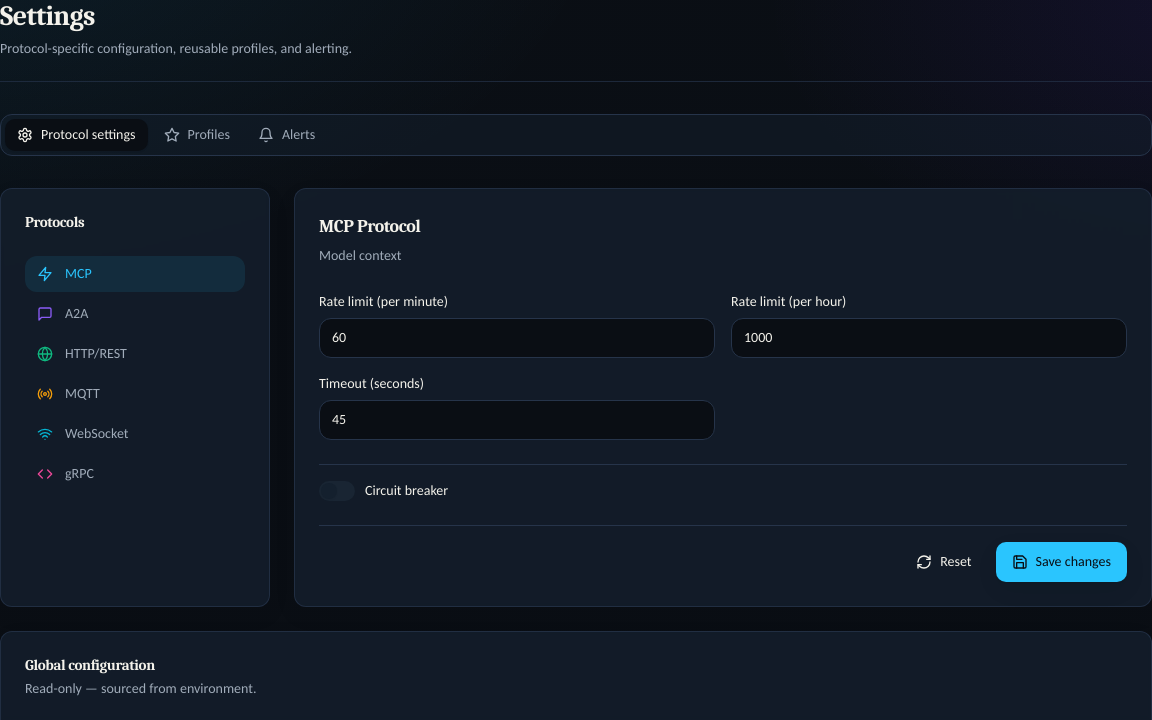
Test: Settings page › profiles tab › selecting a profile loads it into the form; new profile clears it
Step 1. Click the tab "Profiles" → click(197, 135), box [152, 119, 242, 151]
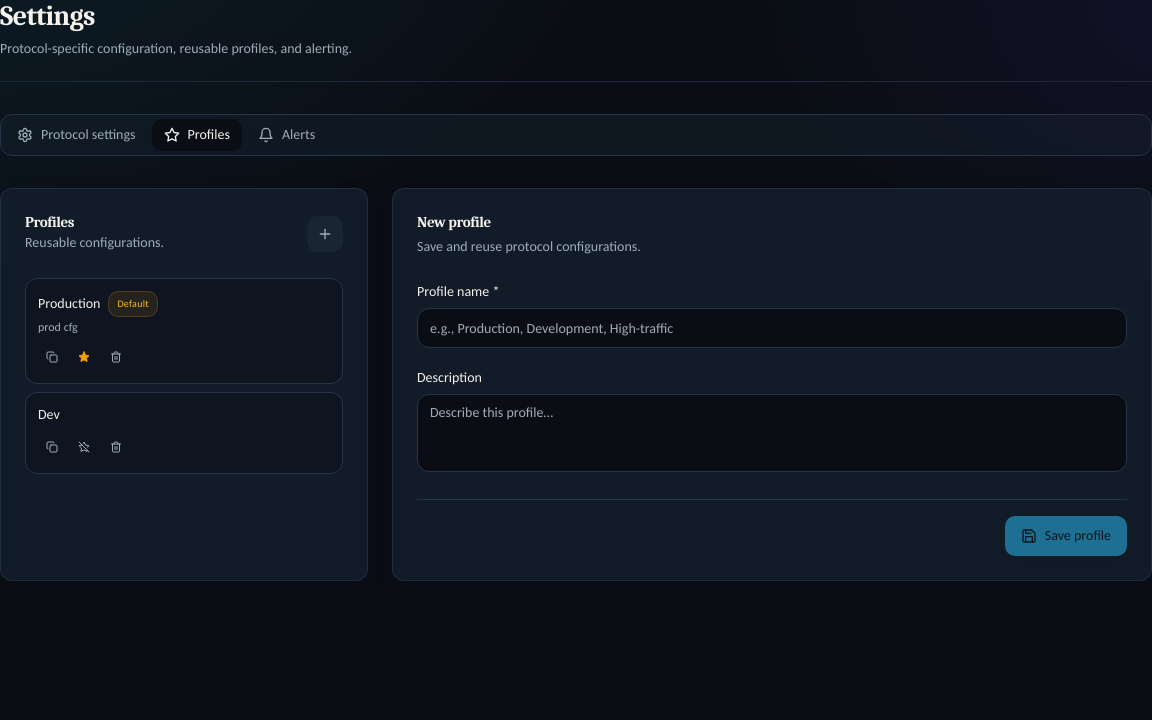
Step 2. Click the text "Dev" → click(49, 415), box [38, 405, 60, 425]
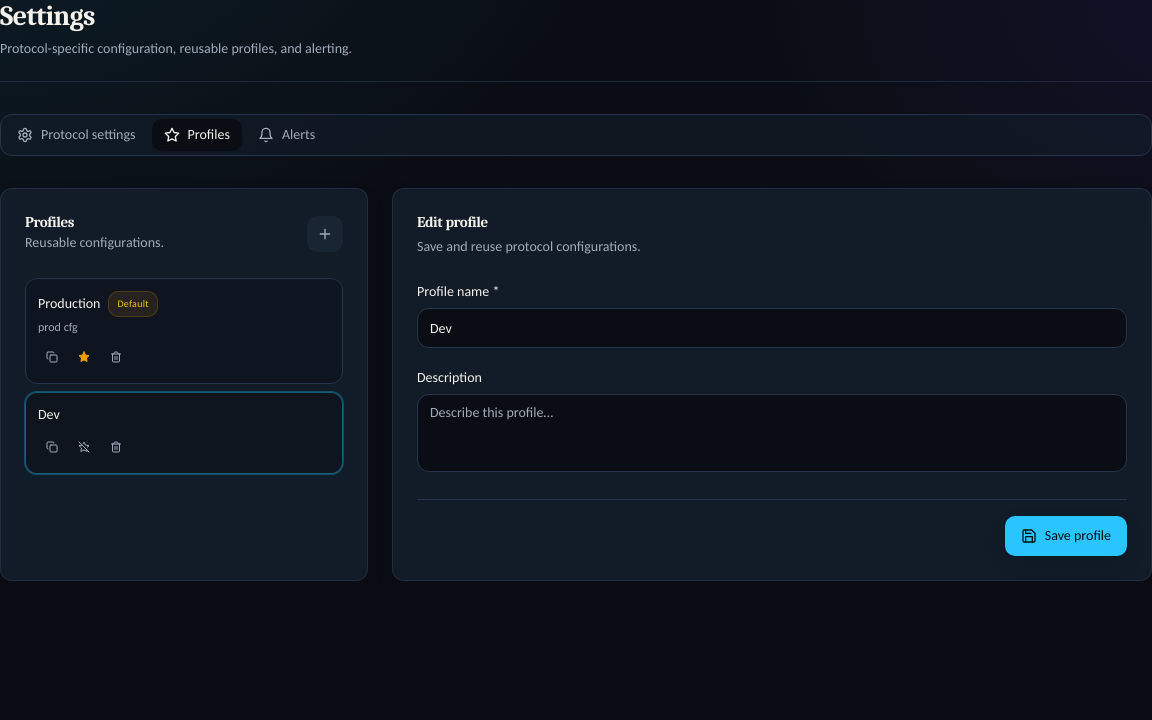
Expected: the heading "Edit profile" is shown, [417, 213, 488, 231]
Expected: the field labelled "Profile name *" holds "Dev", [417, 308, 1127, 348]
Step 3. Click the button named "New profile" → click(325, 234), box [307, 216, 343, 252]
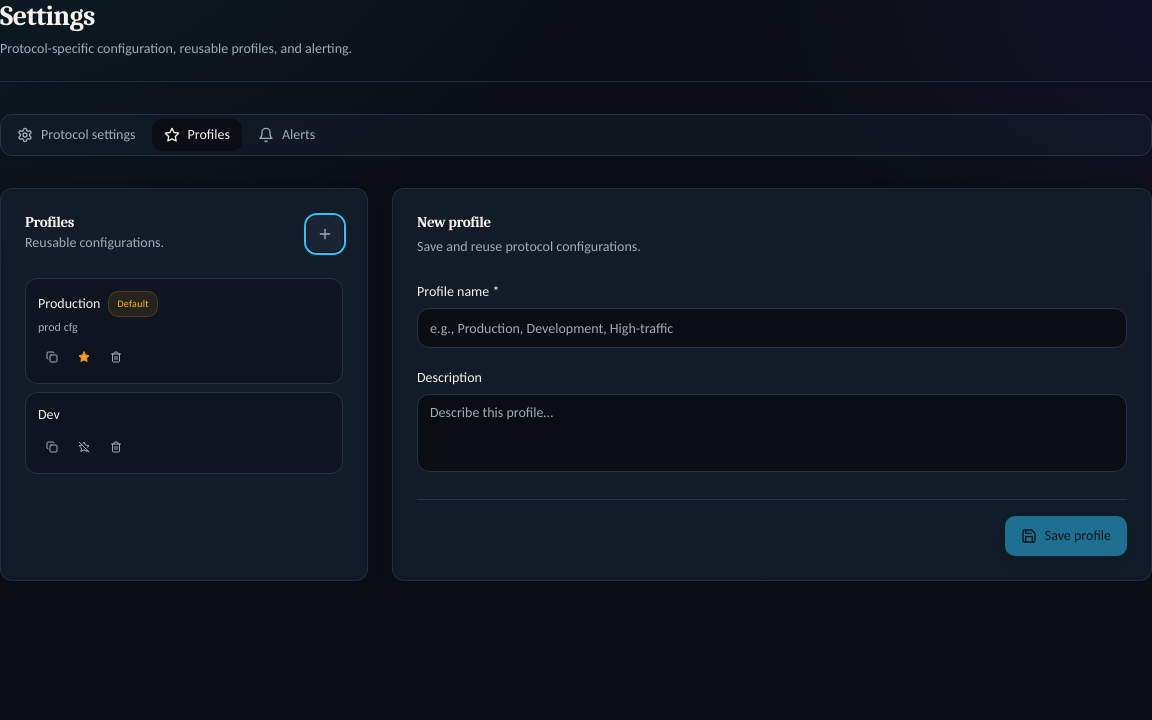
Expected: the heading "New profile" is shown, [417, 213, 491, 231]
Expected: the field labelled "Profile name *" is empty, [417, 308, 1127, 348]
